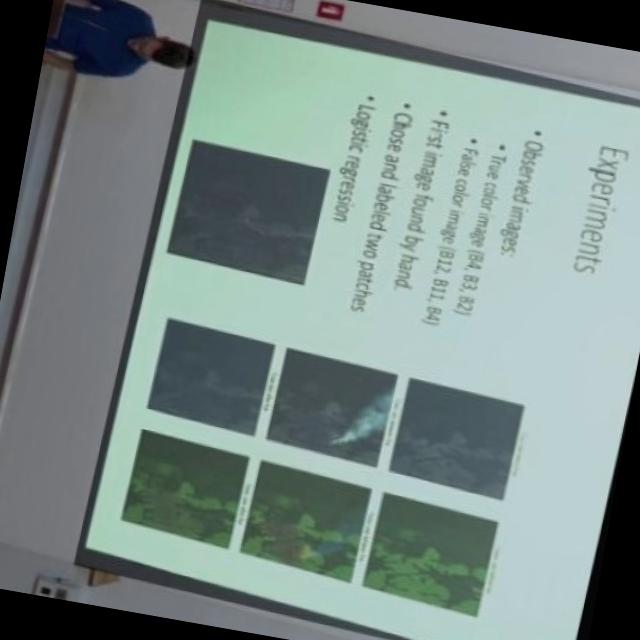Instructor: (44, 0, 233, 101)
Slide: (84, 24, 640, 640)
